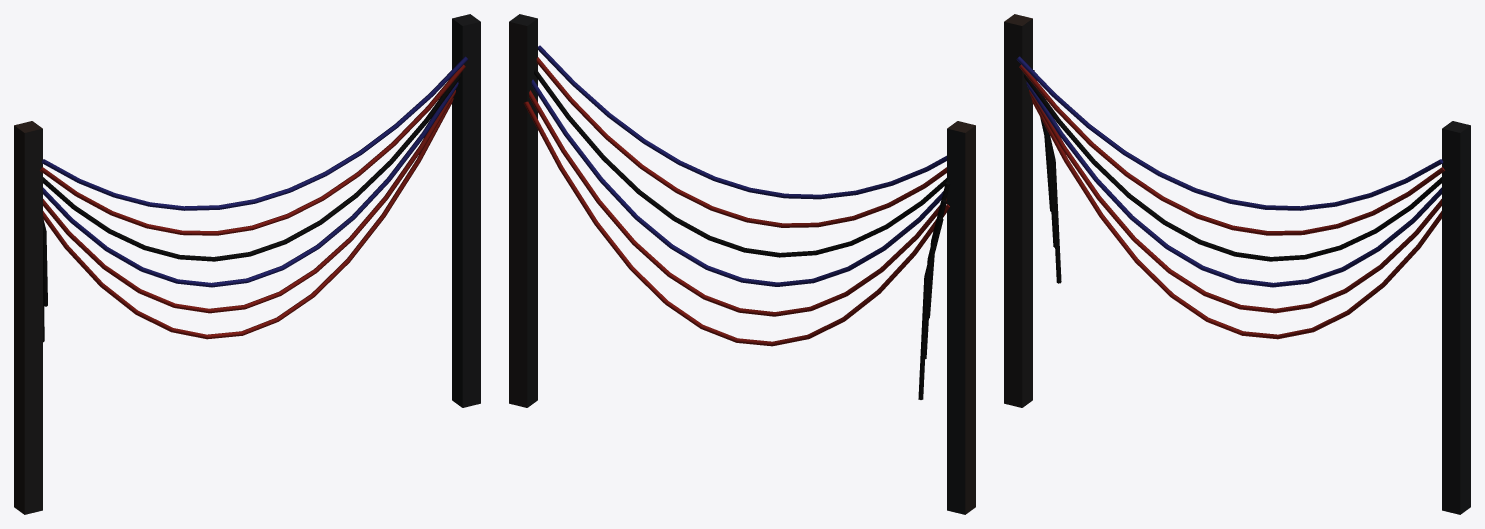
The model's file is cable_drapes.glb.
3 views of the same model, side by side, from view 1: azimuth 30°, elevation 25°; view 2: azimuth 150°, elevation 25°; view 3: azimuth 330°, elevation 25° (orthographic).
Visible parts, largest first — view 1: Mesh; view 2: Mesh; view 3: Mesh.
Part boxes in pixels (box(x1,y1,x2,y2)): Mesh: box(14, 14, 480, 514); Mesh: box(509, 14, 975, 514); Mesh: box(1004, 14, 1470, 514).
Size of the model in its own units: 6.25 by 5 by 0.5943.
